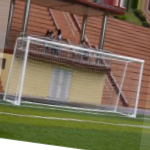goals: (3, 35, 150, 119)
